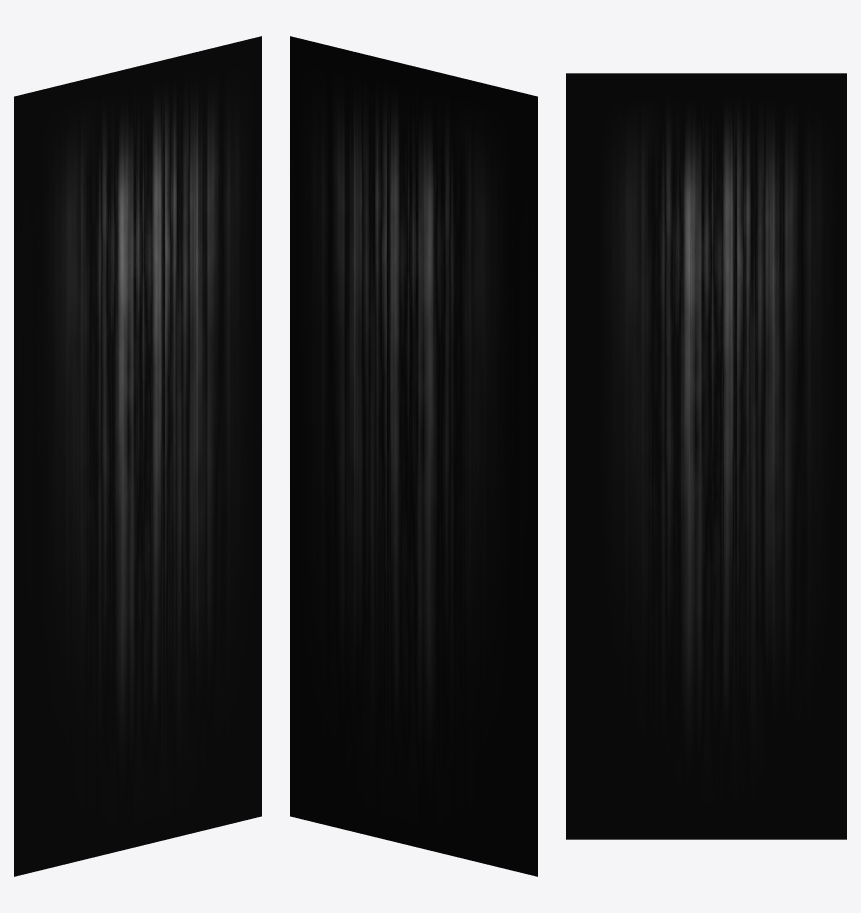
The model's file is crosee_privt_01.FBX.
3 views of the same model, side by side, from view 1: azimuth 30°, elevation 25°; view 2: azimuth 150°, elevation 25°; view 3: azimuth 270°, elevation 25° (orthographic).
Parts seen in each view (by area): view 1: effect_sunshine_001; view 2: effect_sunshine_001; view 3: effect_sunshine_001.
Boxes of the visible parts, box(x1,y1,x2,y2) form: effect_sunshine_001: box(14, 36, 261, 876); effect_sunshine_001: box(290, 36, 537, 876); effect_sunshine_001: box(566, 73, 846, 839).
Size of the model in its own units: 96.67 by 291 by 96.67.
